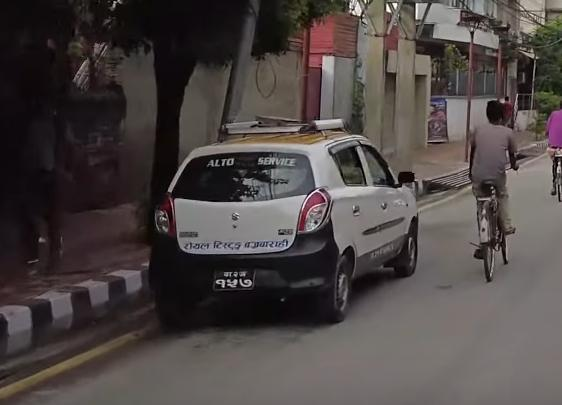taxi: (145, 105, 433, 341)
